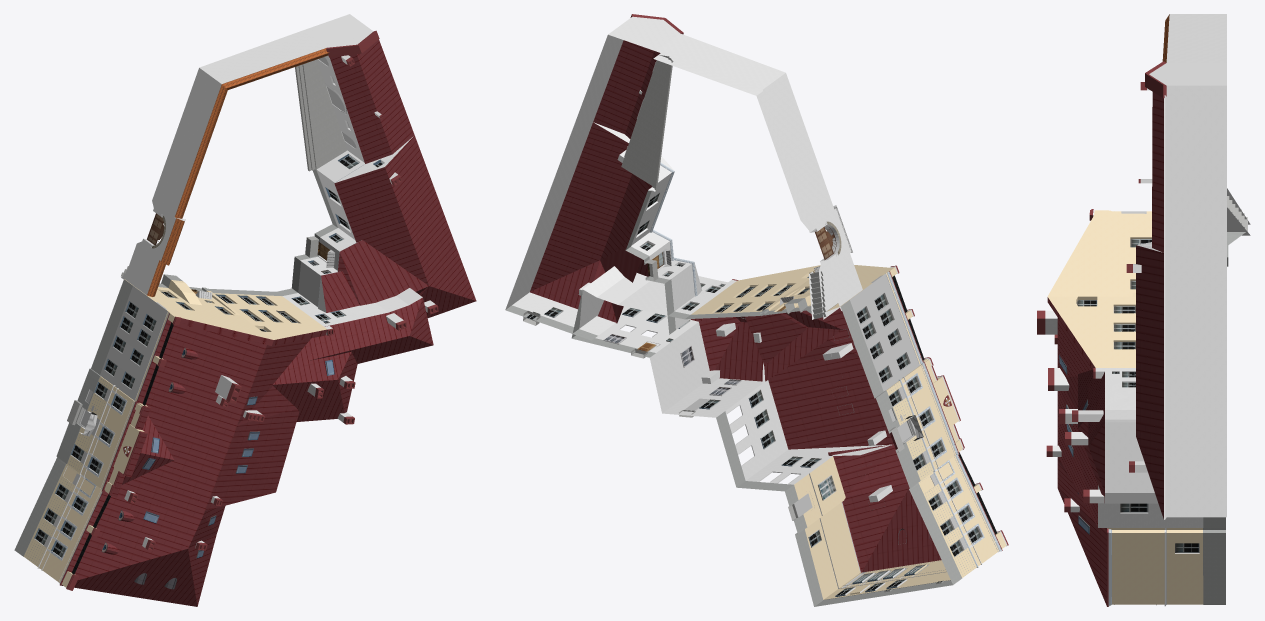
Rendered from Vene_22.obj.
The picture shows the model from 3 angles, left to right: view 1: azimuth 30°, elevation 25°; view 2: azimuth 150°, elevation 25°; view 3: azimuth 270°, elevation 25°; orthographic projection. The views are drawn at different scales.
Visible parts, largest first — view 1: vene22; view 2: vene22; view 3: vene22.
Part boxes in pixels (box(x1,y1,x2,y2)): vene22: box(14, 14, 476, 606); vene22: box(505, 14, 1008, 606); vene22: box(1037, 14, 1250, 606).
Bounding box in the file's own units: 56.15 × 62.46 × 18.72.
